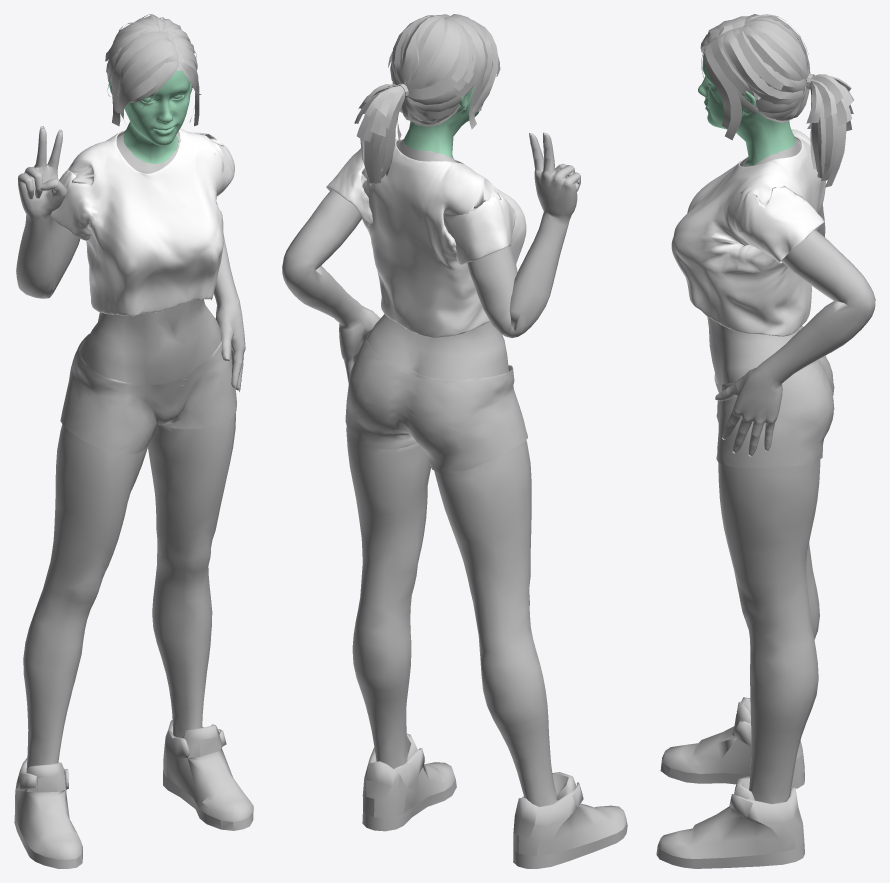
File: assistant_guffy_girl.obj
3 views of the same model, side by side, from view 1: azimuth 30°, elevation 25°; view 2: azimuth 150°, elevation 25°; view 3: azimuth 270°, elevation 25° (orthographic). The views are drawn at different scales.
Visible parts, largest first — view 1: 22_+body.1nPart.part.002_1.0_0_0.000, F0E25AE5, 6463091, 9DE933C4, D1716CB7.001, D1716CB7, 22_+body.1nPart.part.005_1.0_0_0.000; view 2: 22_+body.1nPart.part.002_1.0_0_0.000, F0E25AE5, 6463091, 9DE933C4, D1716CB7, D1716CB7.001, 22_+body.1nPart.part.005_1.0_0_0.000; view 3: 22_+body.1nPart.part.002_1.0_0_0.000, F0E25AE5, 9DE933C4, D1716CB7.001, 6463091, D1716CB7, 22_+body.1nPart.part.005_1.0_0_0.000.
Part boxes in pixels (x1,y1,x2,y2): 22_+body.1nPart.part.002_1.0_0_0.000: [16, 126, 245, 771]; F0E25AE5: [50, 128, 234, 316]; 6463091: [60, 334, 236, 454]; 9DE933C4: [105, 14, 201, 126]; D1716CB7.001: [163, 720, 253, 830]; D1716CB7: [14, 758, 82, 868]; 22_+body.1nPart.part.005_1.0_0_0.000: [109, 70, 192, 163]; 22_+body.1nPart.part.002_1.0_0_0.000: [282, 132, 580, 806]; F0E25AE5: [326, 139, 526, 337]; 6463091: [345, 330, 527, 474]; 9DE933C4: [354, 14, 500, 186]; D1716CB7: [513, 772, 627, 868]; D1716CB7.001: [362, 733, 456, 831]; 22_+body.1nPart.part.005_1.0_0_0.000: [403, 86, 483, 158]; 22_+body.1nPart.part.002_1.0_0_0.000: [707, 138, 875, 803]; F0E25AE5: [671, 129, 825, 336]; 9DE933C4: [700, 14, 853, 187]; D1716CB7.001: [656, 776, 804, 868]; 6463091: [714, 355, 834, 468]; D1716CB7: [660, 697, 804, 788]; 22_+body.1nPart.part.005_1.0_0_0.000: [698, 53, 795, 165].
Bounding box in the file's own units: 0.5836 × 1.74 × 0.4234.
